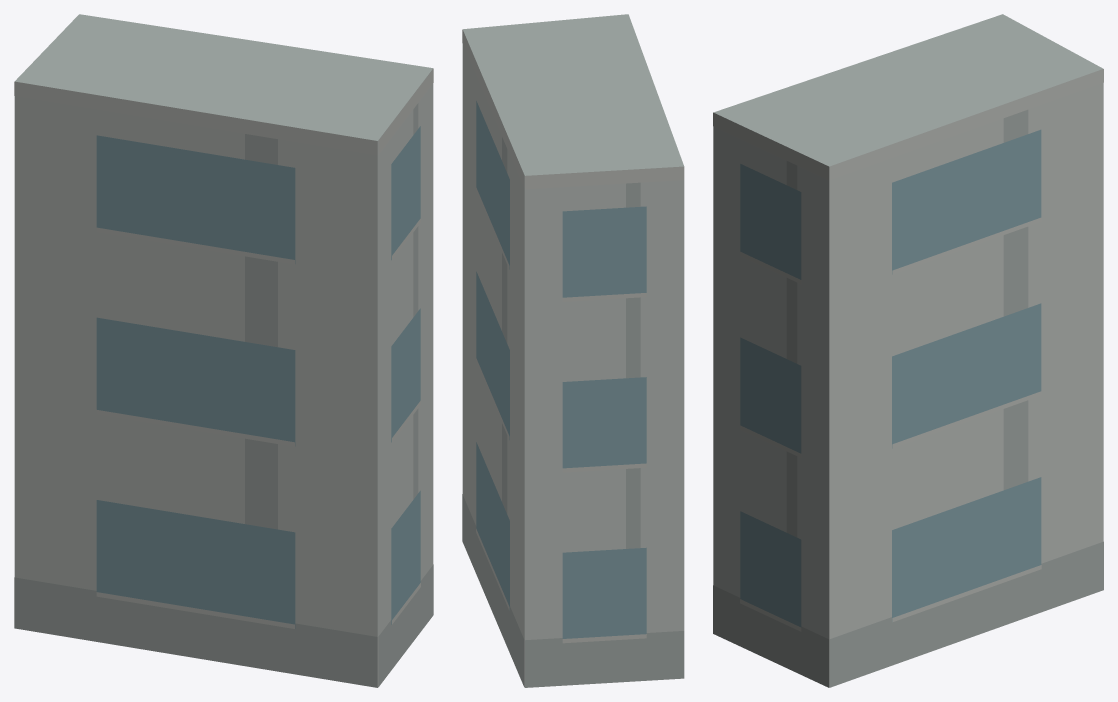
Rendered from survey-upis-32644338.glb.
3 renders of one model, left to right at view 1: azimuth 30°, elevation 25°; view 2: azimuth 150°, elevation 25°; view 3: azimuth 270°, elevation 25°, orthographic. The views are drawn at different scales.
Parts seen in each view (by area): view 1: survey-upis-32644338.tmp; view 2: survey-upis-32644338.tmp; view 3: survey-upis-32644338.tmp.
Part boxes in pixels (<box>): survey-upis-32644338.tmp: <box>14,14,433,687</box>; survey-upis-32644338.tmp: <box>462,14,684,687</box>; survey-upis-32644338.tmp: <box>713,14,1103,687</box>.
Bounding box in the file's own units: 5.75 × 9.15 × 6.22.
